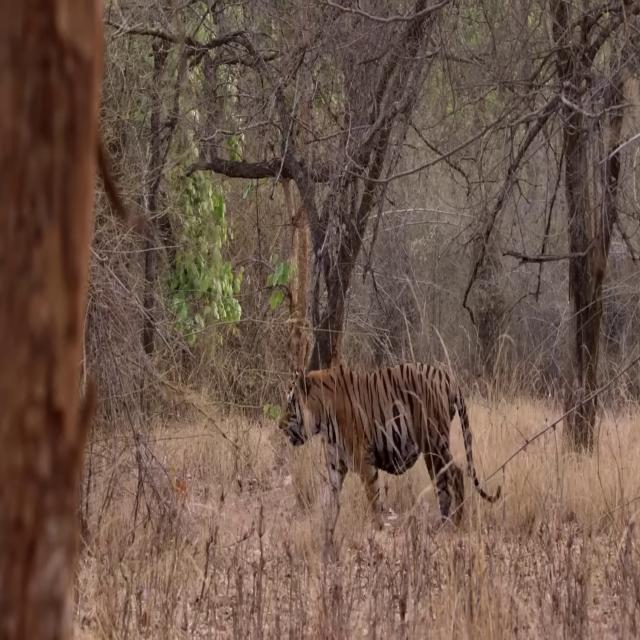tiger: (279, 358, 502, 540)
